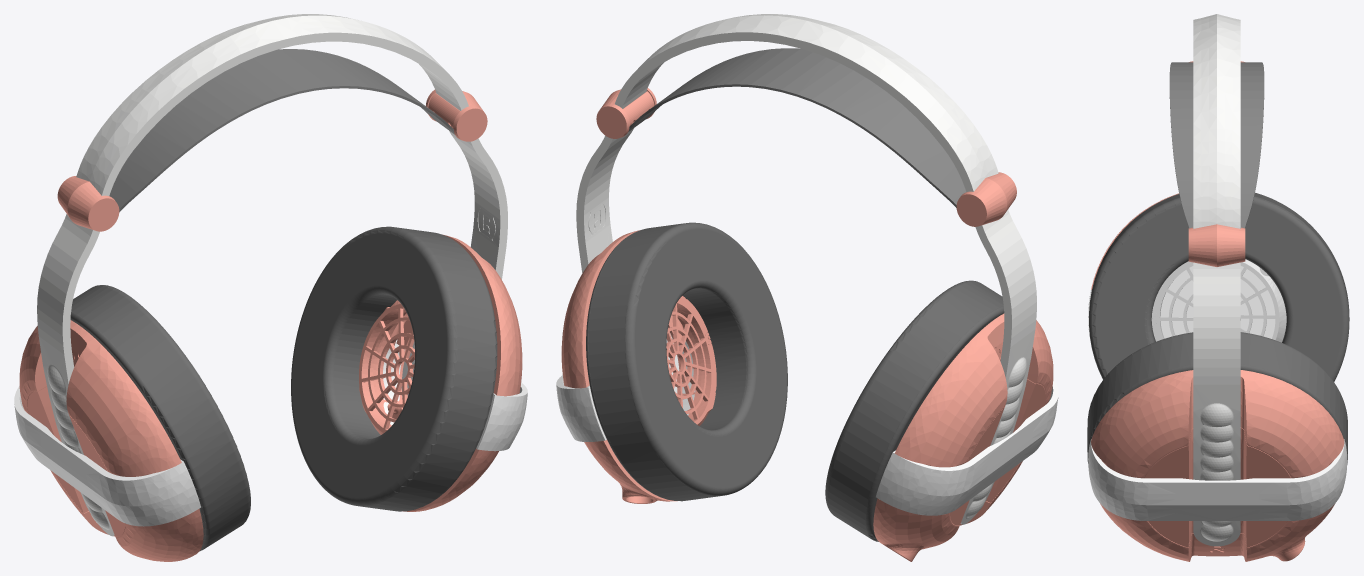
Rendered from headamame-v2.glb.
The picture shows the model from 3 angles, left to right: view 1: azimuth 30°, elevation 25°; view 2: azimuth 150°, elevation 25°; view 3: azimuth 270°, elevation 25°; orthographic projection. The views are drawn at different scales.
Parts seen in each view (by area): view 1: solid_022, solid_004, solid_023, solid_007, solid_008, solid_013, solid_021, solid_019, solid_010, solid_002, solid_014, solid_011 (+2 smaller); view 2: solid_022, solid_004, solid_023, solid_007, solid_008, solid_013, solid_021, solid_010, solid_019, solid_002, solid_014, solid_011 (+2 smaller); view 3: solid_004, solid_023, solid_019, solid_014, solid_022, solid_007, solid_015, solid_016, solid_001, solid_012, solid_005.
Boxes of the visible parts, x1,y1,x2,y2 form: solid_022: (291,226,497,511); solid_004: (37,14,507,536); solid_023: (70,285,250,551); solid_007: (109,49,454,212); solid_008: (19,320,181,476); solid_013: (14,386,200,526); solid_021: (359,300,414,434); solid_019: (384,234,522,396); solid_010: (50,470,203,561); solid_002: (57,176,119,231); solid_014: (476,382,527,451); solid_011: (27,386,125,536); solid_022: (586,222,787,501); solid_004: (576,14,1036,524); solid_023: (825,280,1004,541); solid_007: (628,48,965,207); solid_008: (894,313,1053,467); solid_013: (876,378,1058,515); solid_021: (666,296,716,425); solid_010: (873,461,1022,561); solid_019: (561,230,683,388); solid_002: (956,172,1016,226); solid_014: (556,375,606,441); solid_011: (949,379,1045,525); solid_004: (1193,14,1240,546); solid_023: (1089,192,1349,381); solid_019: (1091,370,1344,478); solid_014: (1088,439,1347,520); solid_022: (1087,332,1347,464); solid_007: (1169,62,1264,228); solid_015: (1144,428,1290,547); solid_016: (1100,503,1335,561); solid_001: (1151,259,1286,342); solid_012: (1160,266,1275,338); solid_005: (1188,224,1245,266).
Bounding box in the file's own units: 201 × 220 × 111.
